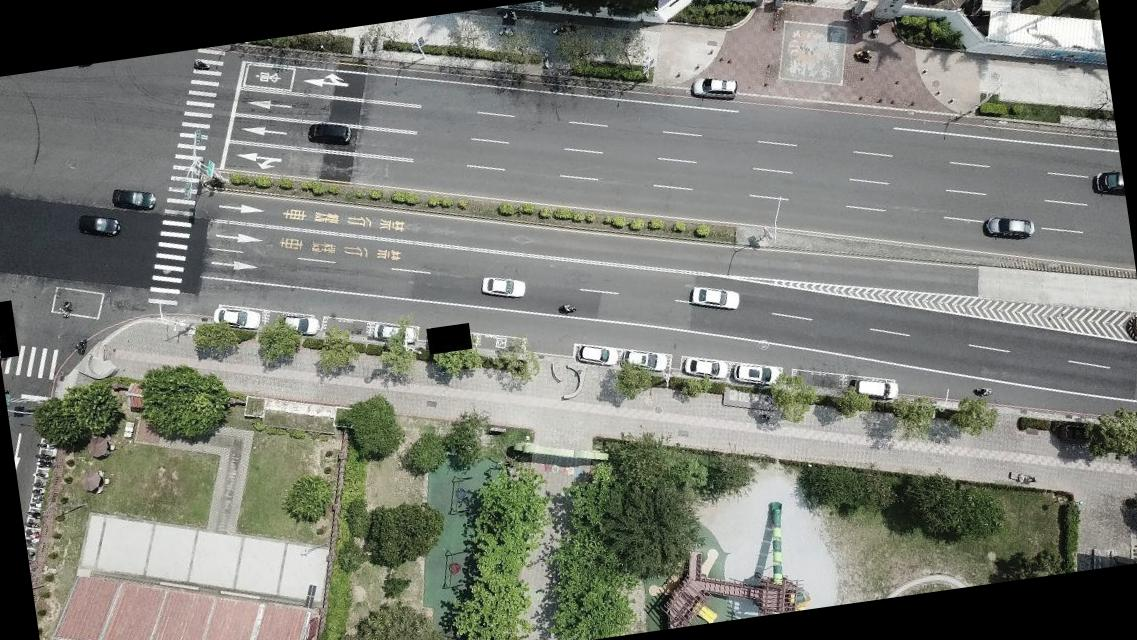vehicle: (689, 283, 743, 317), (686, 71, 740, 104), (368, 316, 417, 352), (75, 210, 122, 243), (277, 312, 324, 344), (478, 273, 526, 303), (210, 306, 259, 334), (305, 118, 350, 148), (682, 354, 730, 382), (985, 215, 1034, 242), (623, 348, 668, 377), (574, 342, 620, 370), (856, 376, 900, 405), (735, 361, 779, 388), (112, 190, 154, 213)
